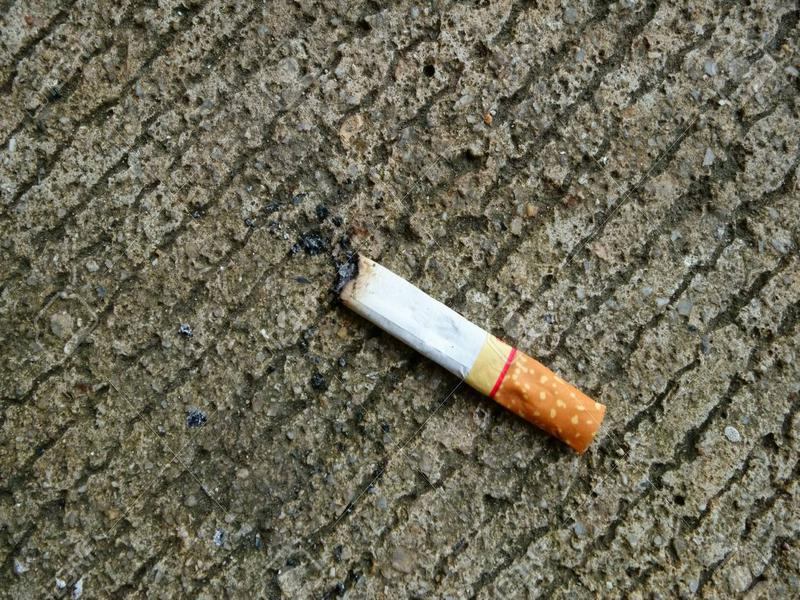burned_cigarette: (326, 250, 609, 460)
